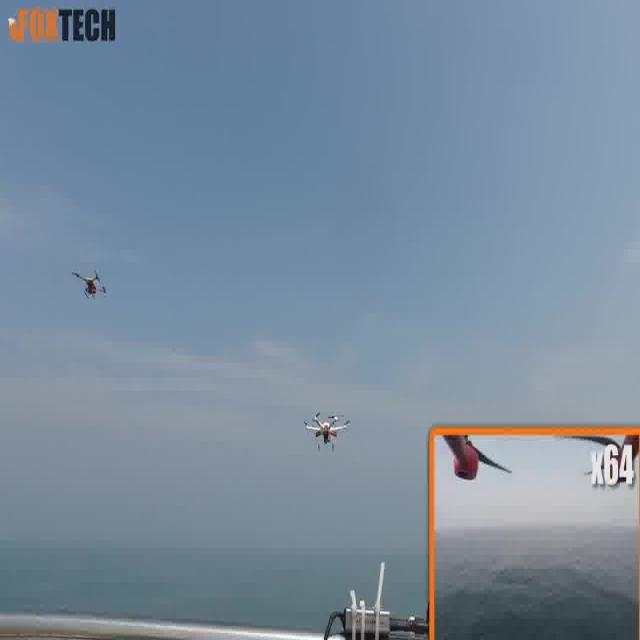drone: (292, 401, 353, 459)
